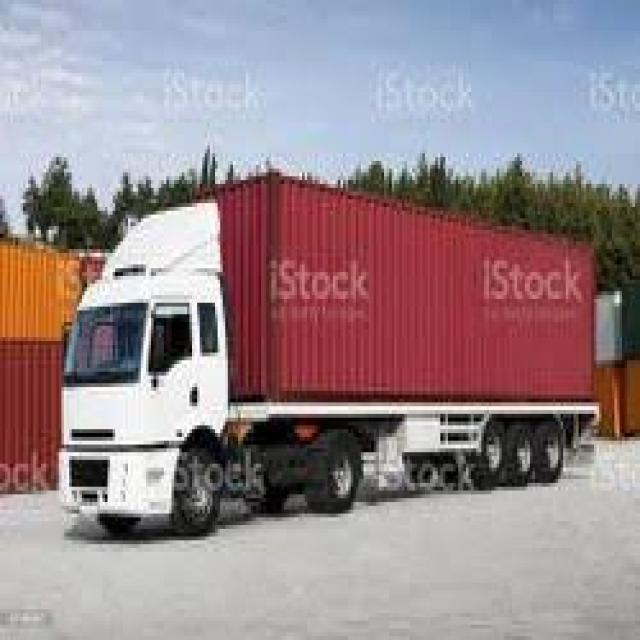covered: (56, 164, 602, 536)
